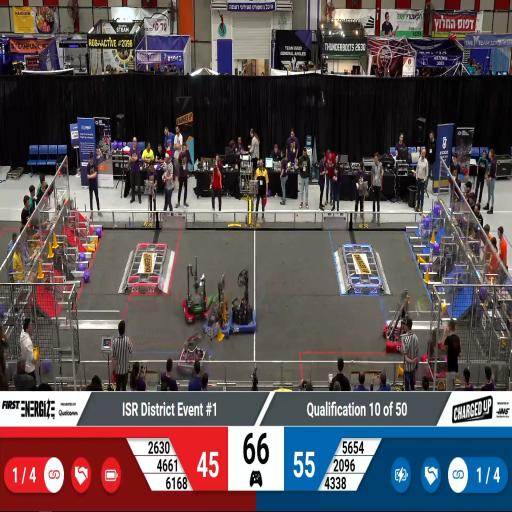robot: (382, 304, 414, 357), (176, 337, 208, 381), (182, 279, 212, 324), (205, 296, 233, 341), (230, 292, 256, 340), (422, 342, 450, 382)
